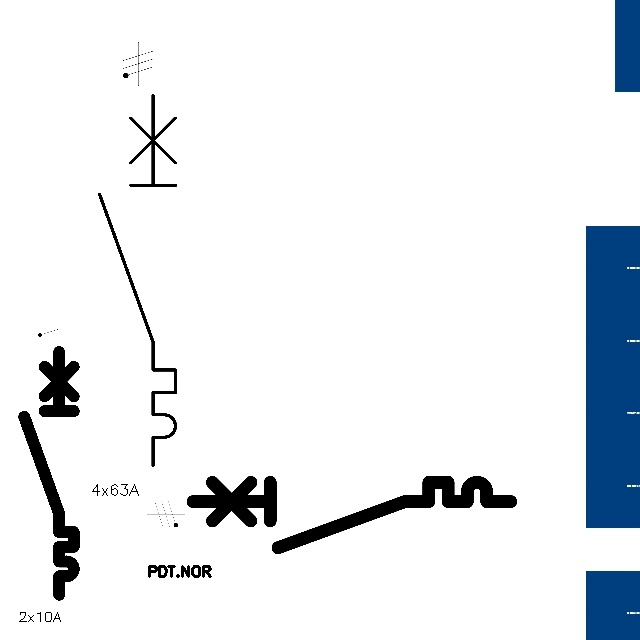interruptor_termomagnetico: (90, 86, 185, 475), (184, 474, 518, 556), (18, 345, 80, 600)
